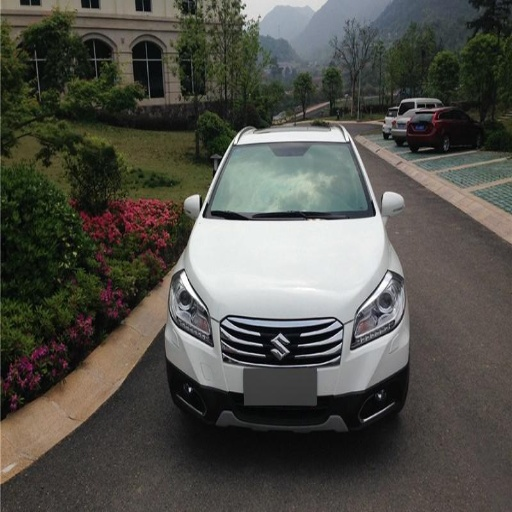front_bumper: (170, 314, 410, 430)
front_right_light: (170, 271, 211, 343)
hood: (187, 217, 383, 321)
